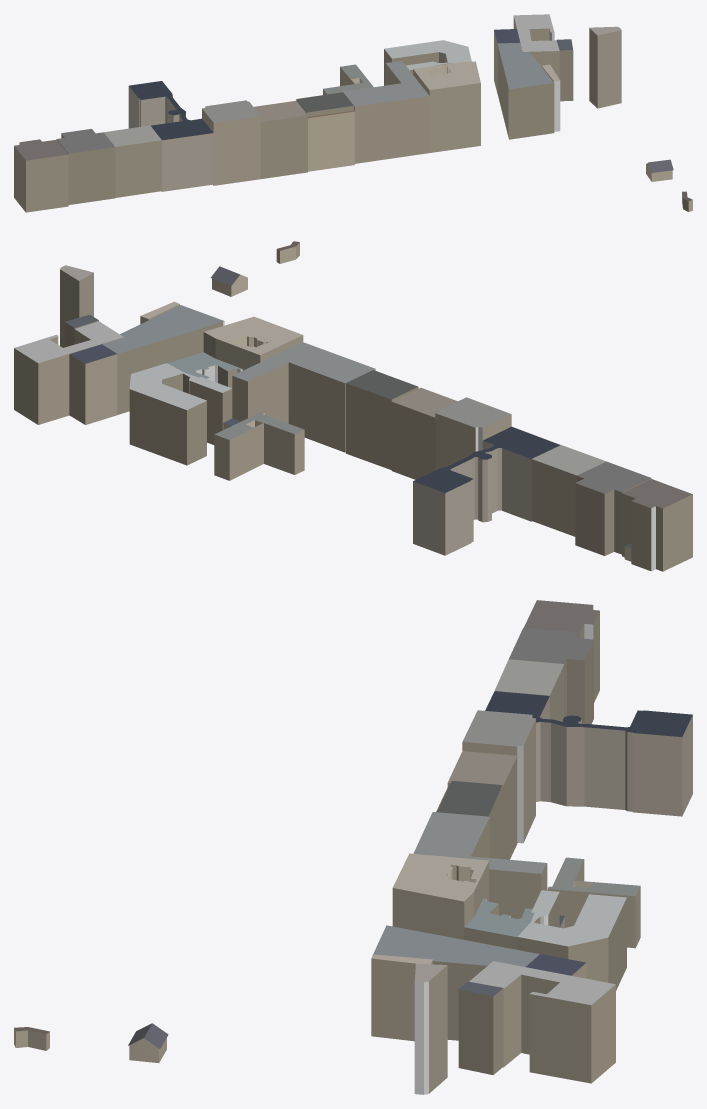
3 renders of one model, top to bottom at view 1: azimuth 30°, elevation 25°; view 2: azimuth 150°, elevation 25°; view 3: azimuth 270°, elevation 25°, orthographic. The views are drawn at different scales.
Parts seen in each view (by area): view 1: tuile; view 2: tuile; view 3: tuile.
Part boxes in pixels (left/top/right/bottom): tuile: left=14, top=14, right=692, bottom=212; tuile: left=14, top=241, right=692, bottom=571; tuile: left=14, top=600, right=692, bottom=1094.
Bounding box in the file's own units: 260 × 33.93 × 178.
